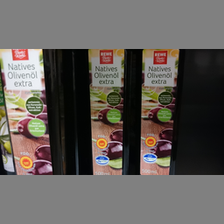oil: (1, 49, 71, 174), (80, 50, 133, 175), (135, 48, 185, 175)
